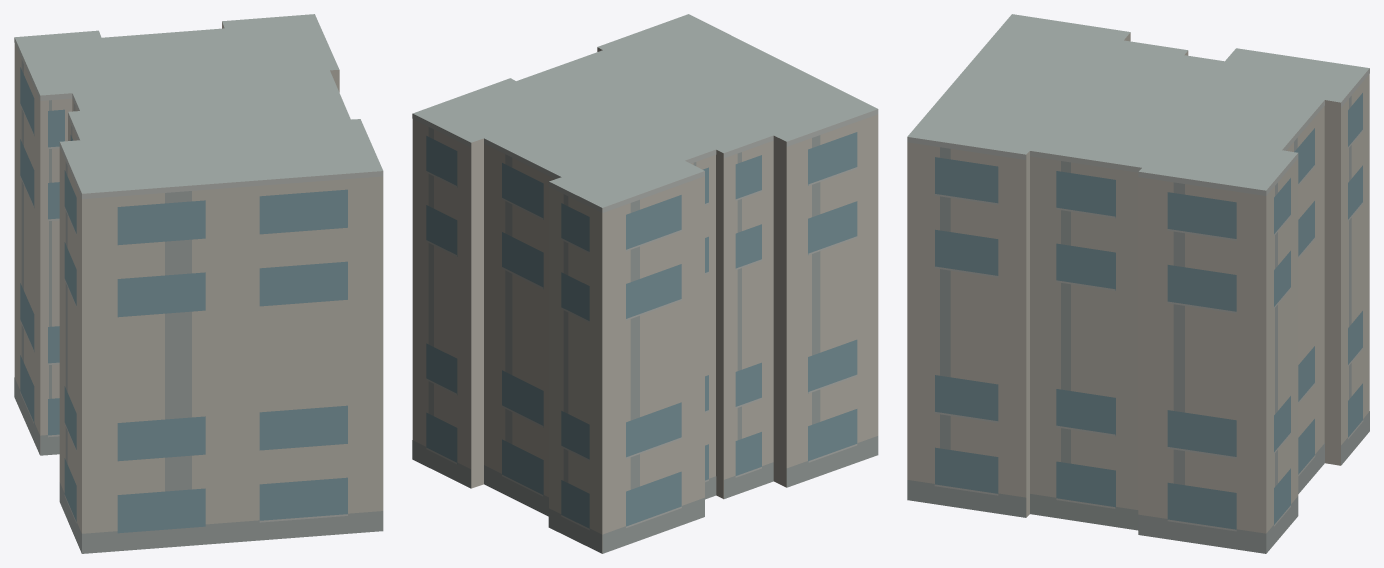
The model's file is survey-upis-32883396.glb.
3 views of the same model, side by side, from view 1: azimuth 30°, elevation 25°; view 2: azimuth 150°, elevation 25°; view 3: azimuth 270°, elevation 25° (orthographic). The views are drawn at different scales.
Visible parts, largest first — view 1: survey-upis-32883396.tmp; view 2: survey-upis-32883396.tmp; view 3: survey-upis-32883396.tmp.
Boxes of the visible parts, x1,y1,x2,y2 form: survey-upis-32883396.tmp: (14,14,383,553); survey-upis-32883396.tmp: (412,14,878,553); survey-upis-32883396.tmp: (907,14,1369,553).
Bounding box in the file's own units: 16.91 × 16.2 × 18.71.
